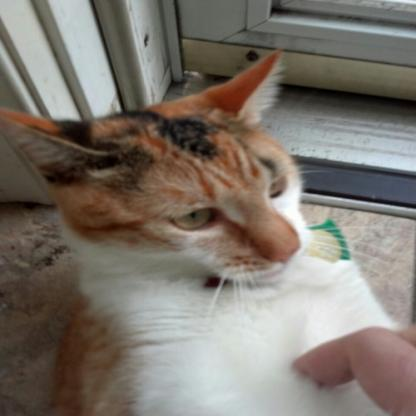Target: (0, 52, 407, 416)
